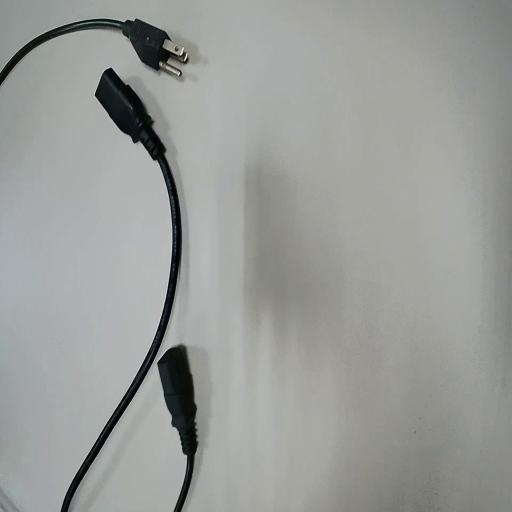wire: (62, 69, 180, 511), (0, 20, 176, 83), (158, 347, 196, 511)
